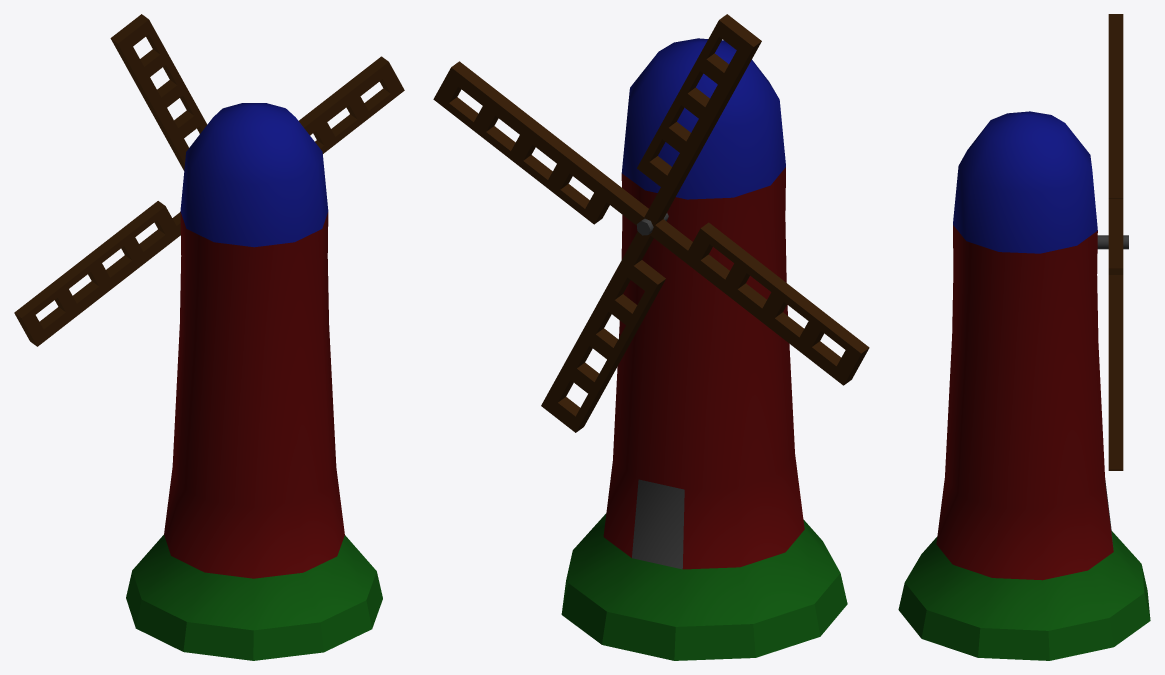
Rendered from Windmill.fbx.
The picture shows the model from 3 angles, left to right: view 1: azimuth 30°, elevation 25°; view 2: azimuth 150°, elevation 25°; view 3: azimuth 270°, elevation 25°; orthographic projection. The views are drawn at different scales.
Visible parts, largest first — view 1: WindmillShape, Box003, Box002, Box001; view 2: WindmillShape, Box003, Box001, Box002, Box004; view 3: WindmillShape, Box002, Box004, Box001.
Part boxes in pixels (bbox=[...]): WindmillShape: bbox=[126, 103, 382, 660]; Box003: bbox=[14, 201, 180, 346]; Box002: bbox=[110, 14, 207, 170]; Box001: bbox=[299, 56, 404, 153]; WindmillShape: bbox=[561, 38, 847, 660]; Box003: bbox=[650, 219, 869, 385]; Box001: bbox=[433, 61, 648, 225]; Box002: bbox=[637, 14, 761, 226]; Box004: bbox=[541, 230, 665, 432]; WindmillShape: bbox=[898, 111, 1150, 660]; Box002: bbox=[1108, 14, 1123, 228]; Box004: bbox=[1108, 275, 1123, 470]; Box001: bbox=[1108, 228, 1123, 274].
Bounding box in the file's own units: 52.1 × 74.25 × 30.12.
